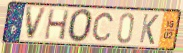0: (116, 12, 136, 45)
C: (91, 11, 115, 42)
H: (43, 8, 71, 41)
K: (138, 12, 160, 46)
O: (67, 9, 94, 45)
V: (25, 7, 49, 42)
